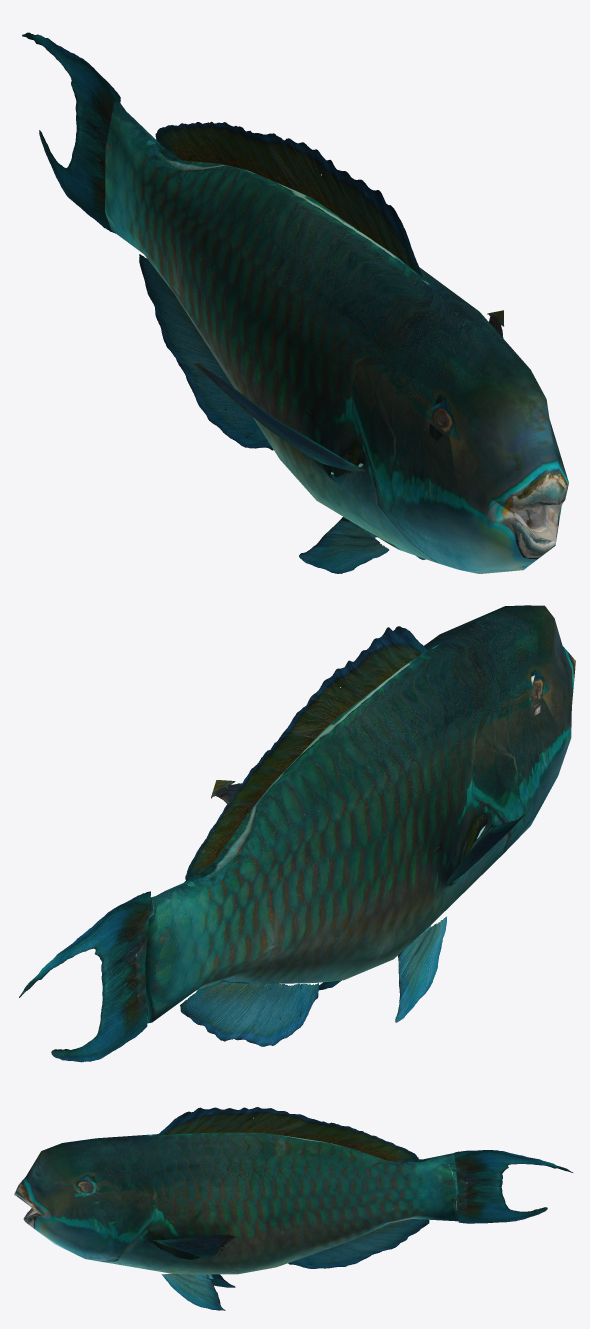
The model's file is SteepheadParrotfish1.fbx.
The picture shows the model from 3 angles, top to bottom: view 1: azimuth 30°, elevation 25°; view 2: azimuth 150°, elevation 25°; view 3: azimuth 270°, elevation 25°; orthographic projection. The views are drawn at different scales.
Visible parts, largest first — view 1: Steephead_Parrotfish; view 2: Steephead_Parrotfish; view 3: Steephead_Parrotfish.
Part boxes in pixels (x1,y1,x2,y2): Steephead_Parrotfish: [22, 32, 568, 573]; Steephead_Parrotfish: [19, 605, 575, 1062]; Steephead_Parrotfish: [14, 1107, 572, 1310].
Size of the model in its own units: 1.15 by 1.4 by 3.54.
Materials: 1 (1 with a texture image).
